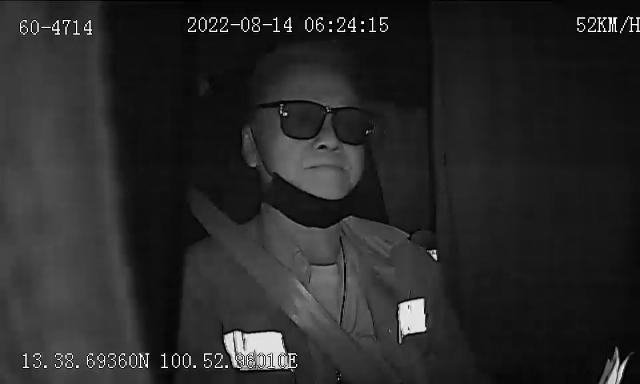Seatbelt: (192, 186, 386, 384)
